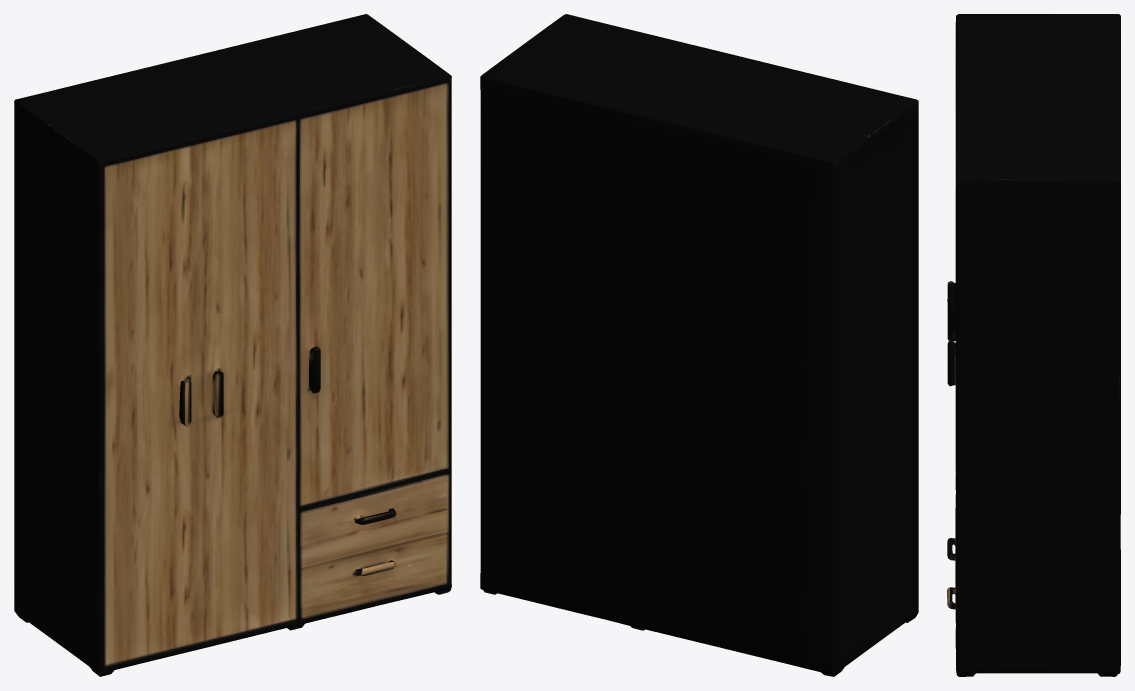
File: Penderie4_3D_textured.glb
3 renders of one model, left to right at view 1: azimuth 30°, elevation 25°; view 2: azimuth 150°, elevation 25°; view 3: azimuth 270°, elevation 25°, orthographic. The views are drawn at different scales.
Visible parts, largest first — view 1: temp_mesh.ply; view 2: temp_mesh.ply; view 3: temp_mesh.ply.
Boxes of the visible parts, x1=… form: temp_mesh.ply: x1=14, y1=14, x2=451, y2=676; temp_mesh.ply: x1=480, y1=14, x2=918, y2=676; temp_mesh.ply: x1=947, y1=14, x2=1120, y2=676.
Size of the model in its own units: 1.42 by 1.97 by 0.6244.
Materials: 1 (1 with a texture image).
